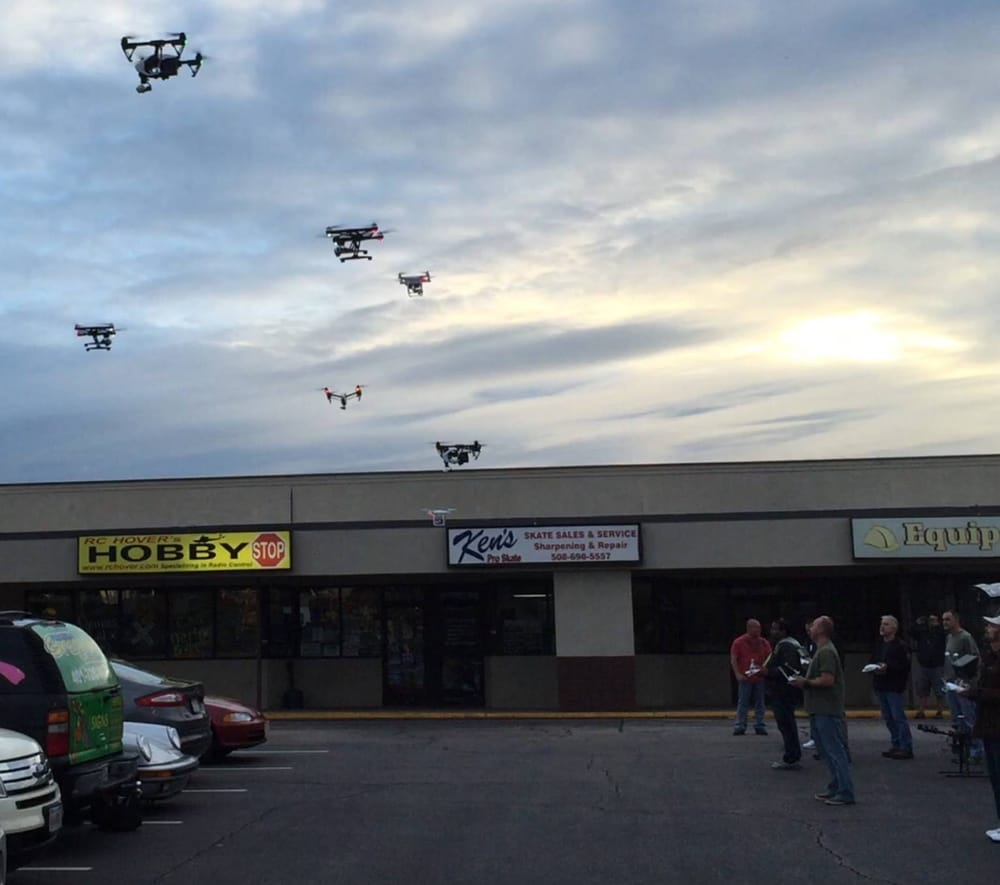drone: (118, 28, 209, 98), (311, 214, 400, 264), (917, 720, 988, 778), (68, 319, 140, 359), (430, 436, 487, 475), (313, 381, 376, 413), (393, 265, 439, 303)
person: (808, 613, 856, 811), (864, 613, 922, 760), (934, 609, 983, 766), (766, 607, 801, 780), (729, 613, 771, 742), (981, 615, 1000, 845)
